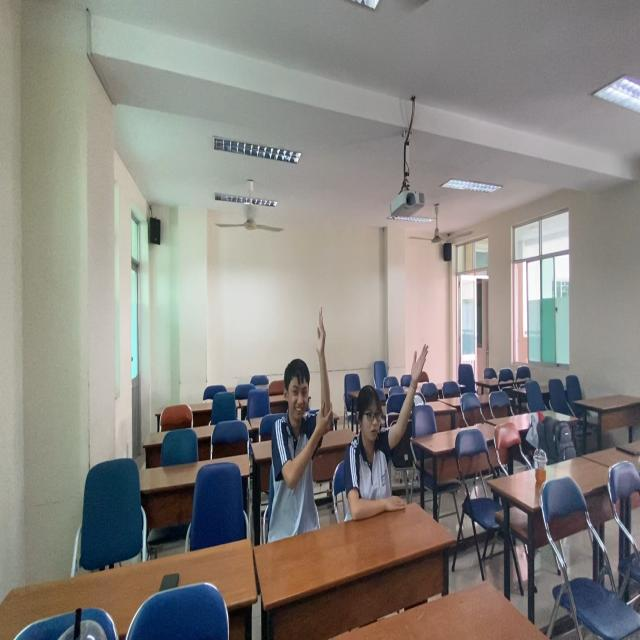raise_hand: (342, 336, 432, 541), (265, 306, 335, 548)
